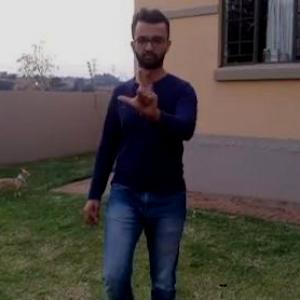land_hand: (114, 61, 165, 116)
